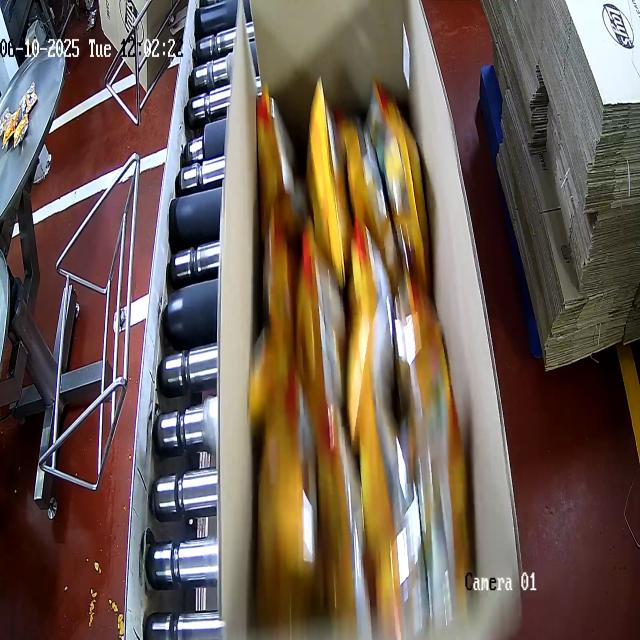FRENCH_CHEESE: (257, 70, 481, 630)
